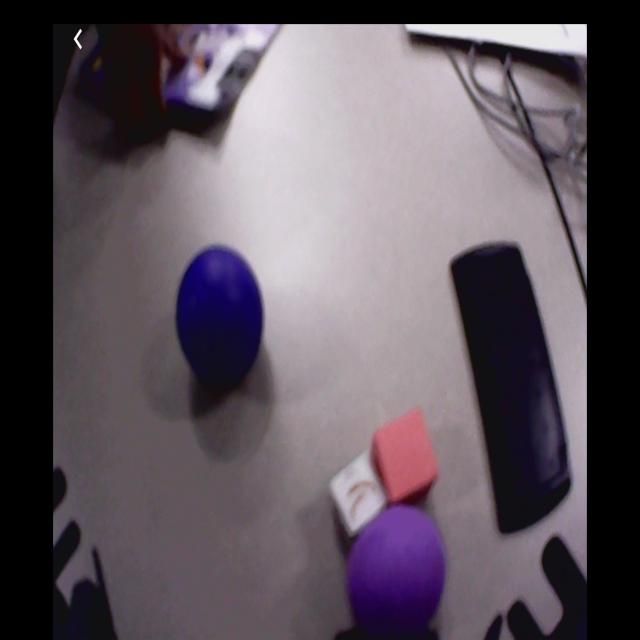ball: (177, 248, 264, 386), (345, 511, 447, 626)
